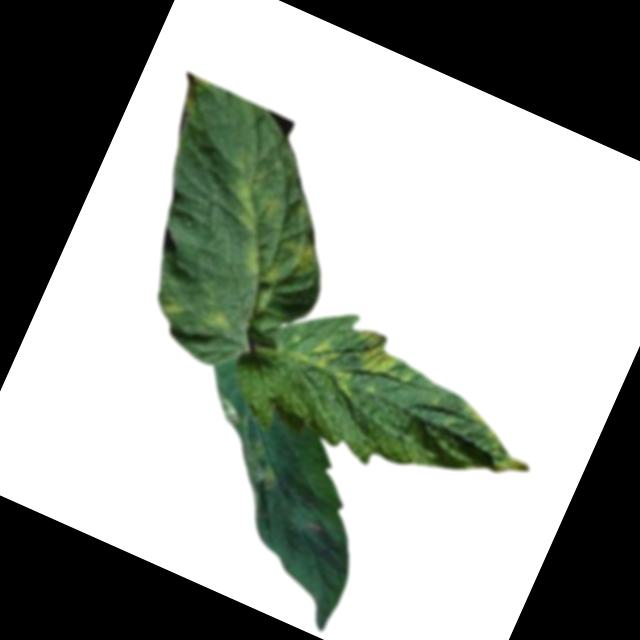Leaf_Mold: (190, 391, 299, 495), (210, 153, 290, 237), (345, 325, 411, 384), (277, 234, 328, 279), (299, 329, 344, 374), (488, 445, 534, 484), (194, 299, 234, 334), (328, 365, 362, 399), (158, 294, 184, 319)
